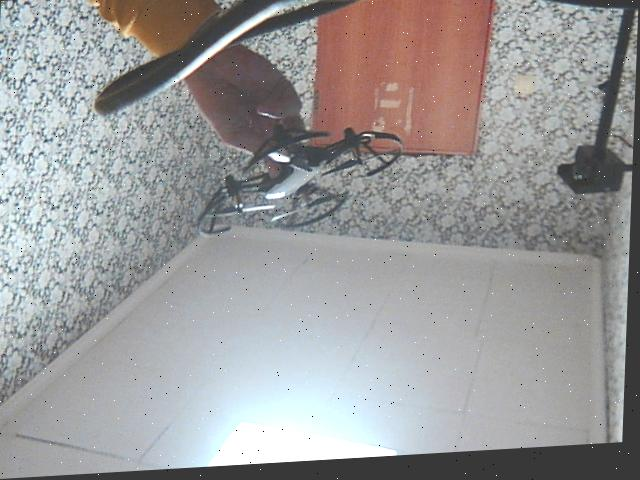drone: (194, 114, 405, 242)
